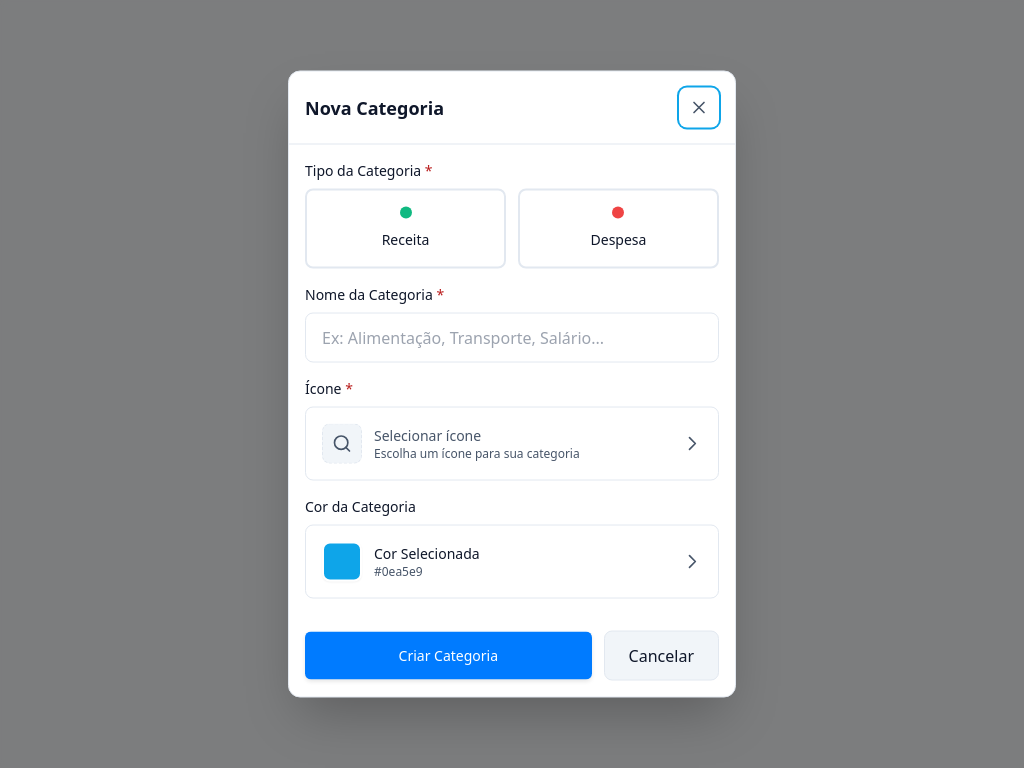
Test case: NovaCategoriaModal › deve mostrar erro quando ícone não é selecionado
The width and height of the screenshot is (1024, 768).
// Selecionar tipo
Click the button "Despesa".
click(618, 228)  # box left=518, top=188, right=719, bottom=268
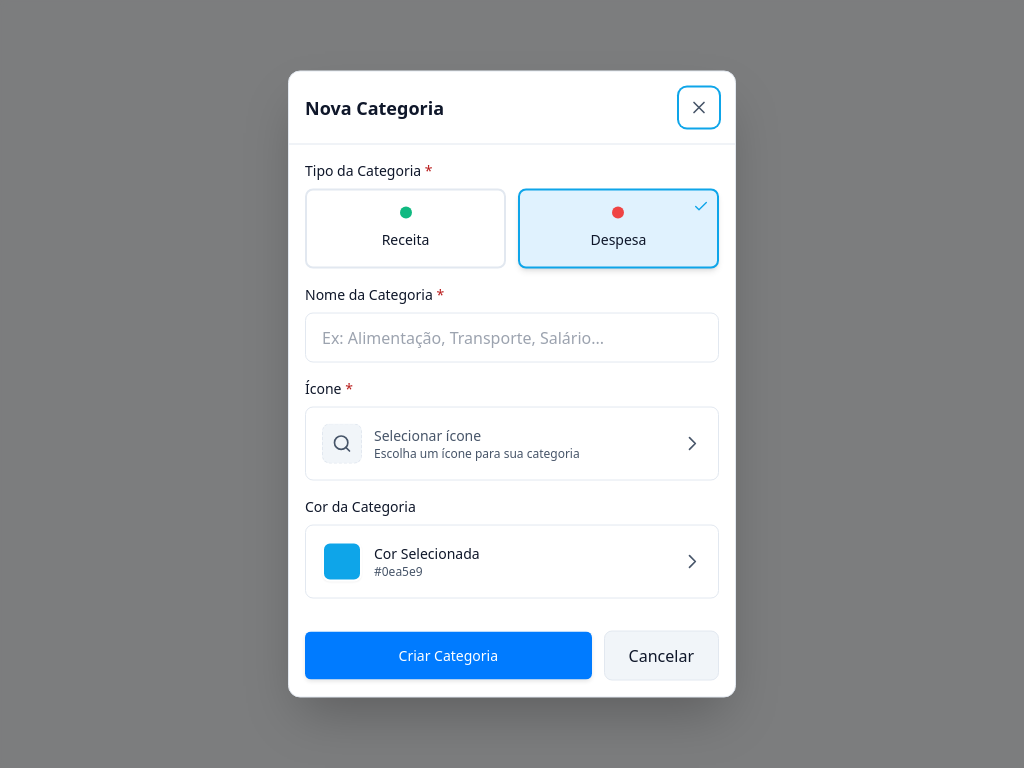
// Digitar nome válido
Type "Alimentação" into the field with placeholder "Ex: Alimentação, Transporte, Salário...".
click(512, 338); type("Alimentação")  # box left=305, top=312, right=719, bottom=362
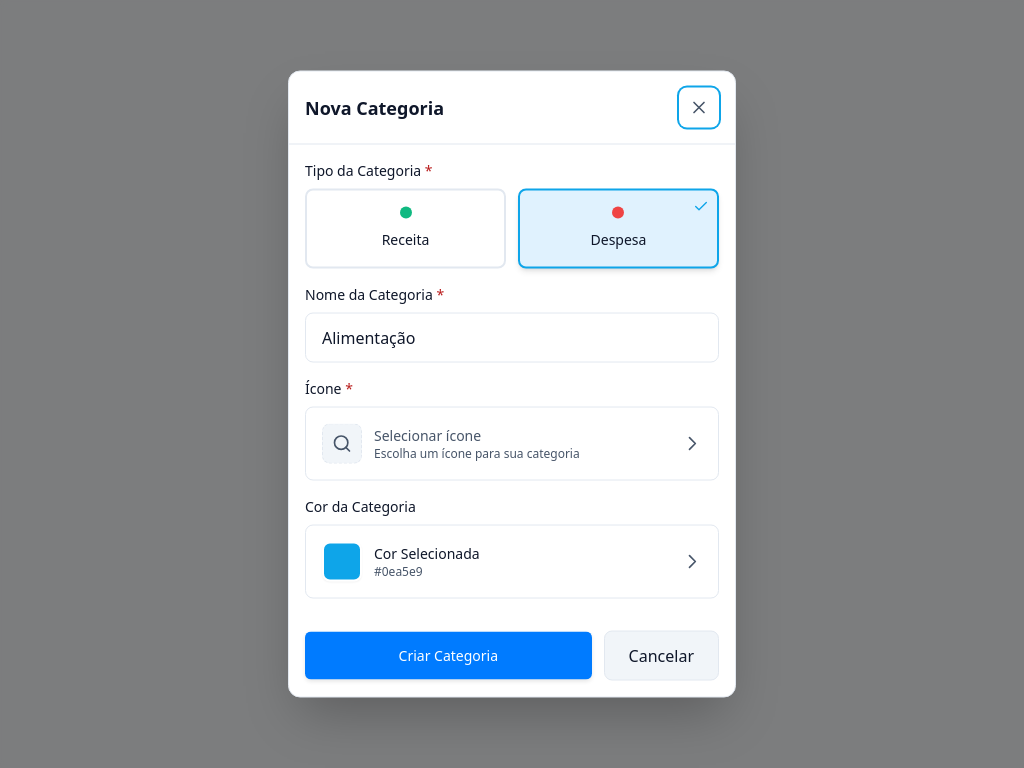
Click the button "Criar Categoria".
click(448, 656)  # box left=305, top=632, right=592, bottom=680
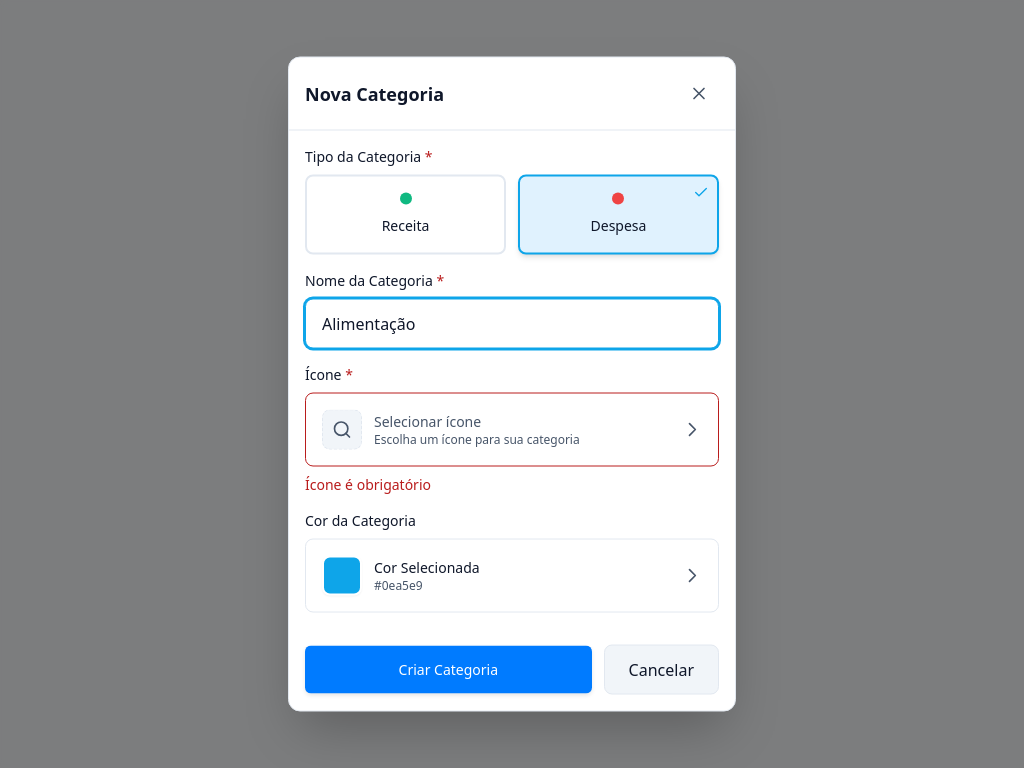
Now the text "Ícone é obrigatório" is shown, box left=305, top=474, right=431, bottom=494
